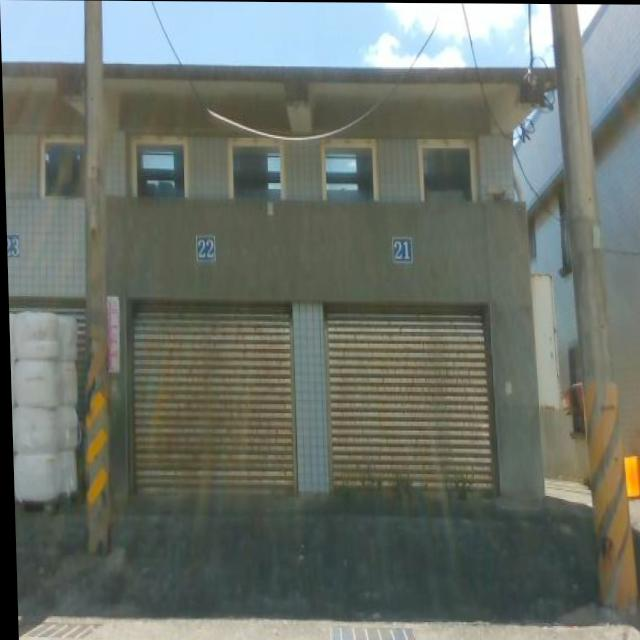pollute: (7, 305, 77, 506), (620, 447, 640, 502)
